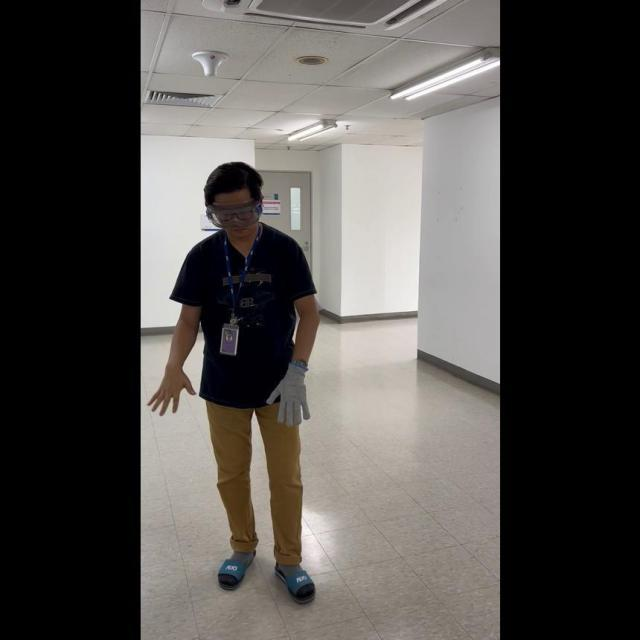bare_hand: (147, 362, 194, 417)
gloved_hand: (265, 359, 310, 423)
